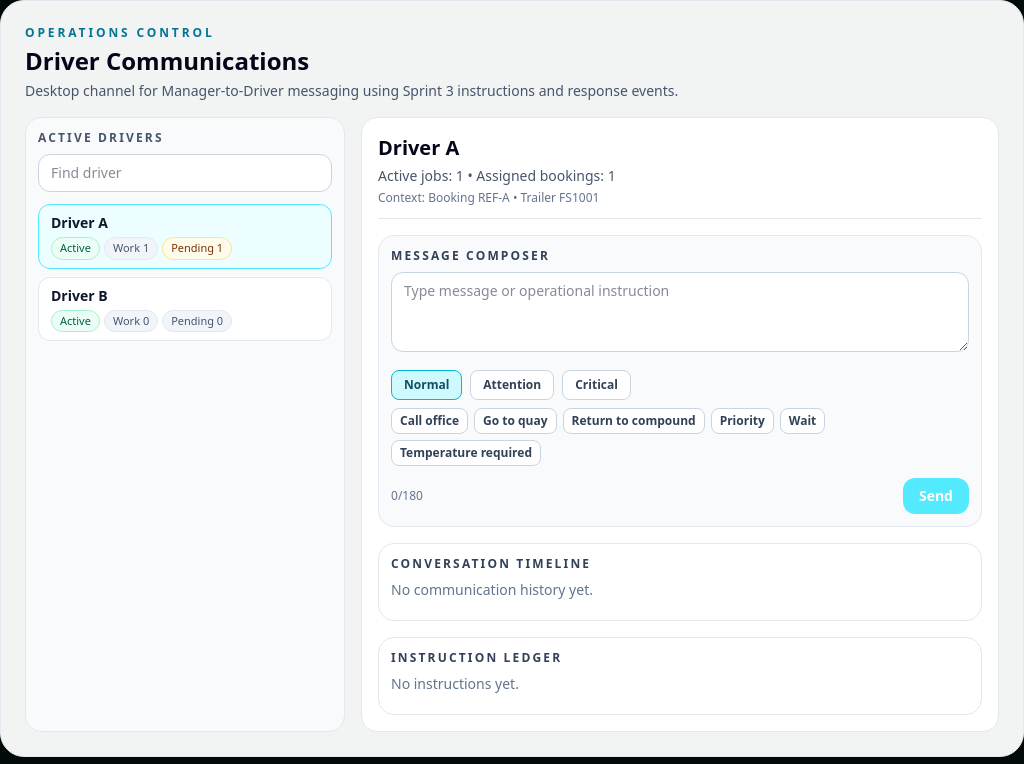
DriverCommunicationsPanel › quick preset appends text and can be sent
Expected: the heading "Driver A" is shown, [378,134,459,161]
Click the button "Call office" at (430, 421), box [391,408,468,434]
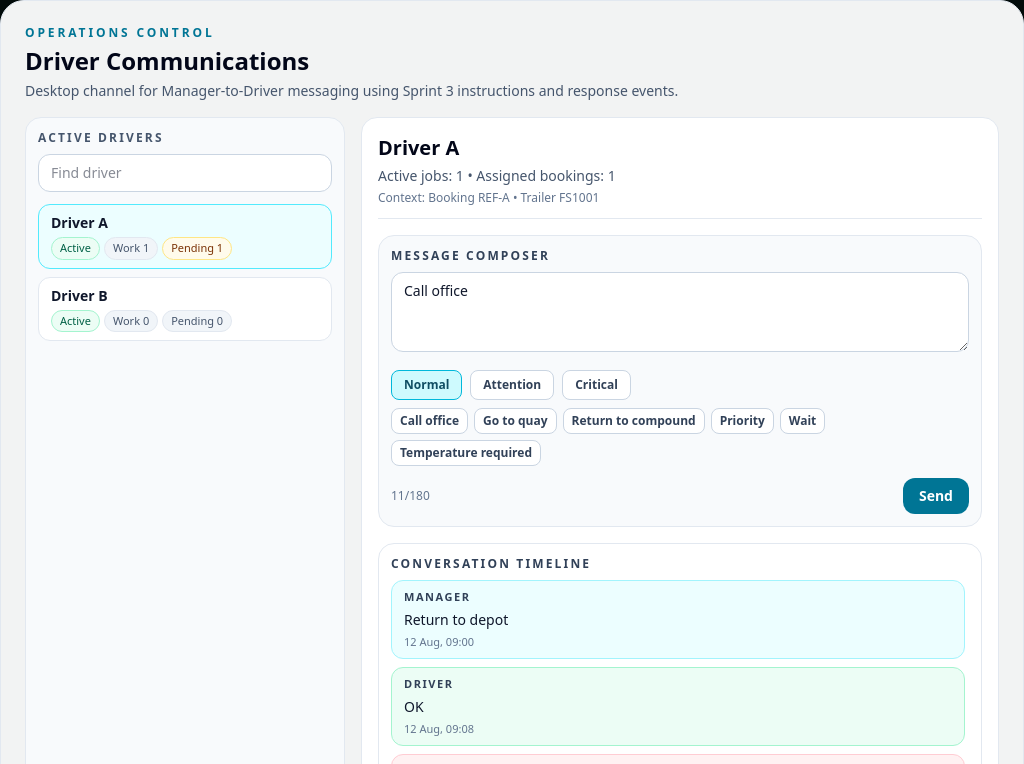
Expected: the text box with placeholder "Type message or operational instruction" holds "Call office", [391,272,969,352]
